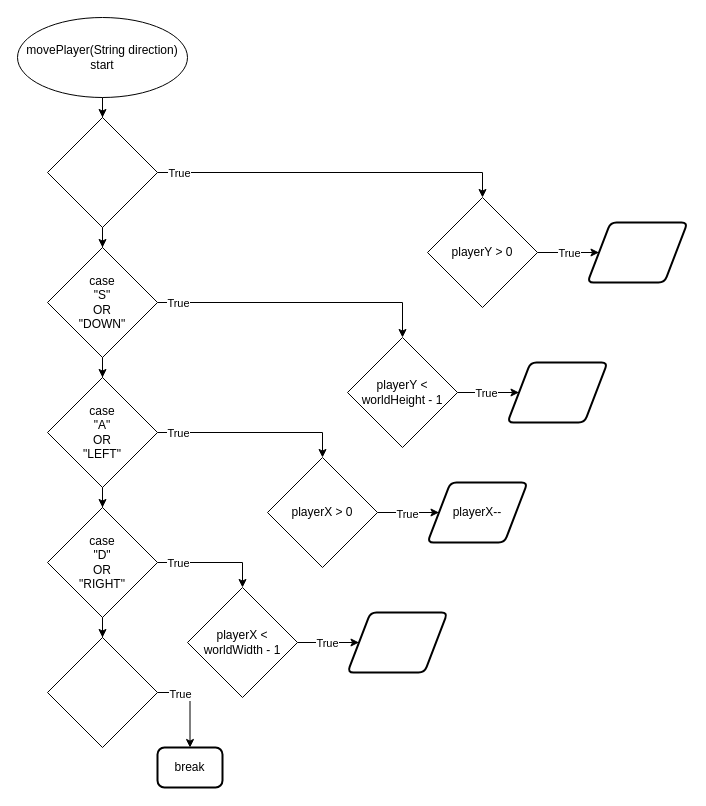
This 706x806 diagram has some shape labels left out. Each missing label, with the centre of its shape:
case "W" OR "UP": [102,172]
default: [102,692]
playerX++: [397,642]
playerY++: [557,392]
playerY--: [637,252]
